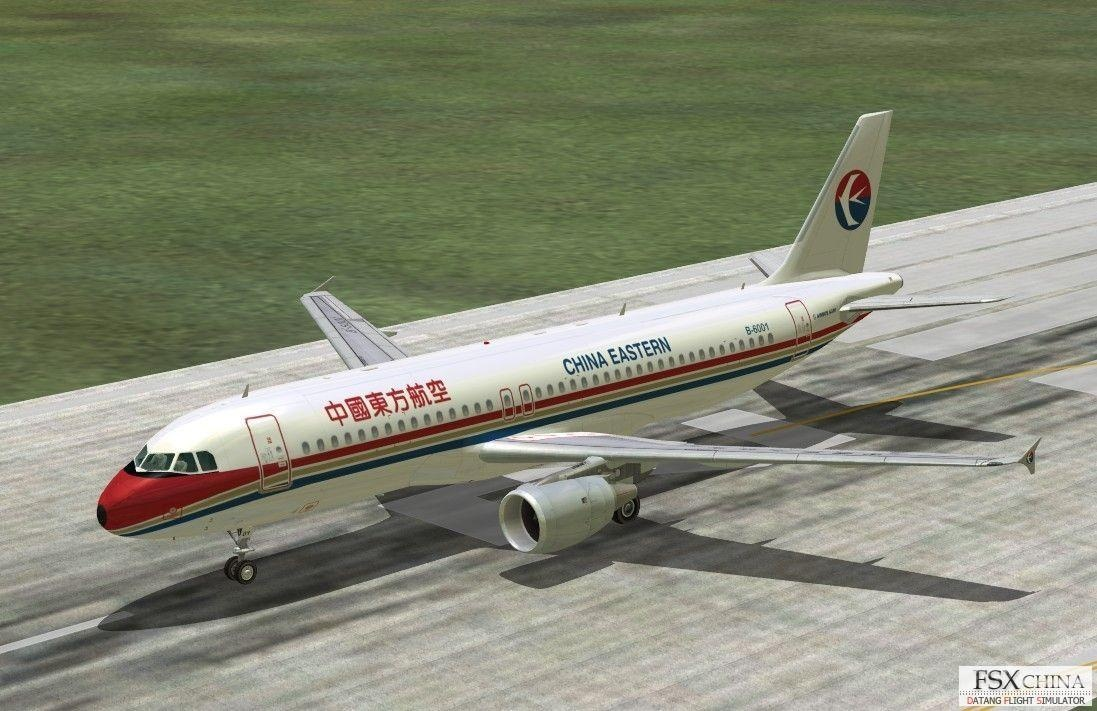airplane: (87, 109, 1059, 582)
